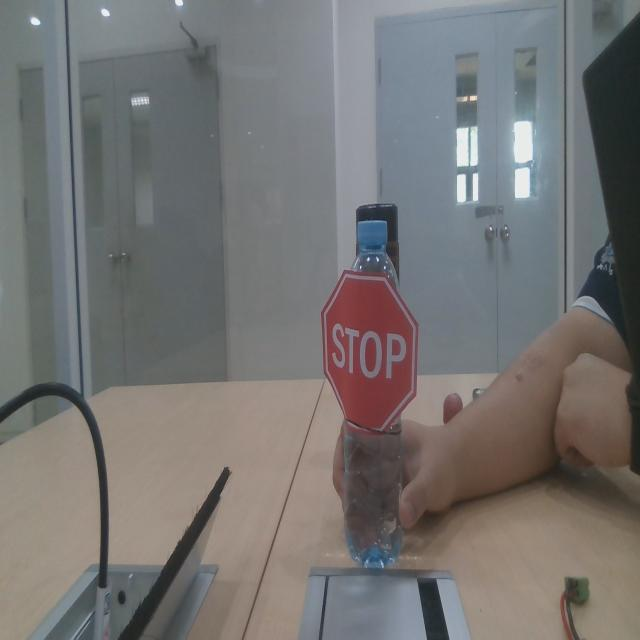Stop: (320, 268, 419, 438)
